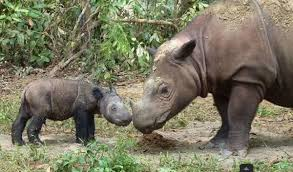Rhinoceros: (130, 8, 289, 159)
